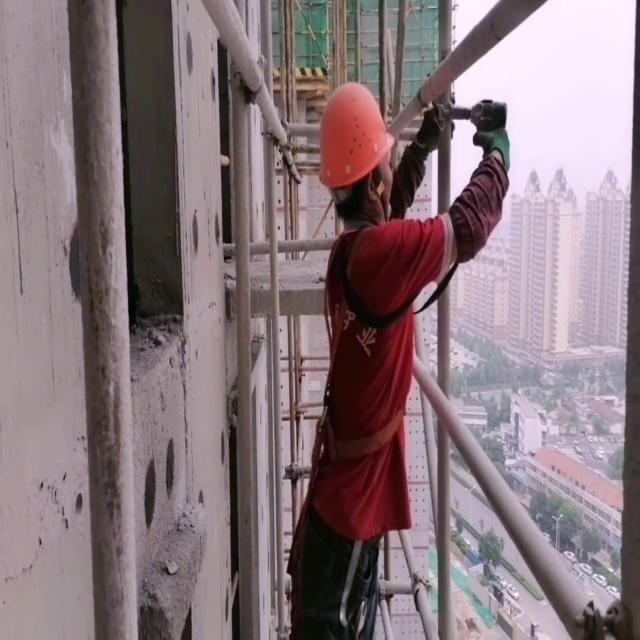Arnes_seguridad: (307, 215, 413, 479)
